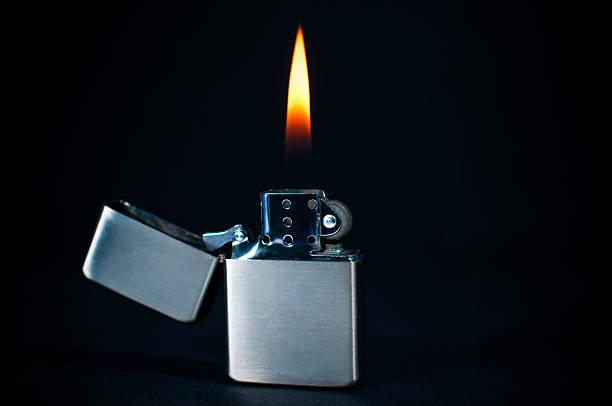Fire: (282, 20, 316, 182)
